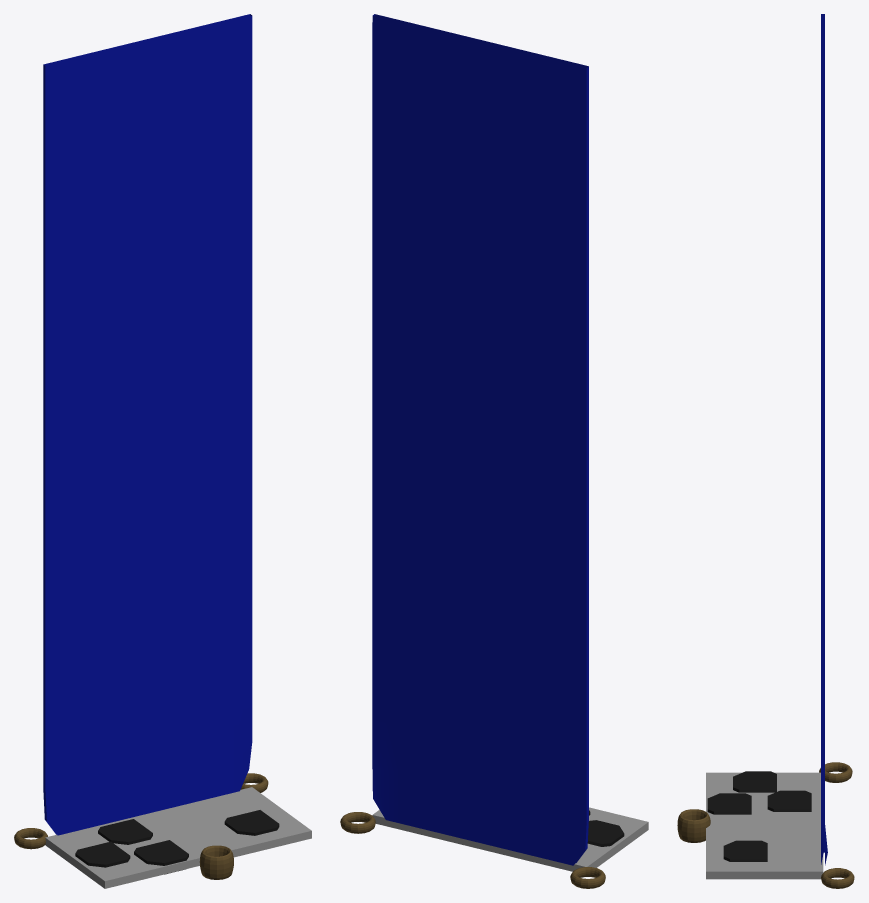
Rendered from starlink.obj.
3 views of the same model, side by side, from view 1: azimuth 30°, elevation 25°; view 2: azimuth 150°, elevation 25°; view 3: azimuth 270°, elevation 25° (orthographic). The views are drawn at different scales.
Parts seen in each view (by area): view 1: Starlink_ISS.002, Cube, Torus.002_Torus, SolarPanels.001_Cube.001, SolarPanels_Cube.001, SolarPanels.003_Cube.001, SolarPanels.002_Cube.001; view 2: Starlink_ISS.002, Cube, SolarPanels_Cube.001, Torus, Torus.001_Torus; view 3: Cube, Starlink_ISS.002, Torus.002_Torus, SolarPanels.001_Cube.001, SolarPanels.002_Cube.001, SolarPanels.003_Cube.001, SolarPanels_Cube.001, Torus, Torus.001_Torus.
Boxes of the visible parts, left/top/right/bottom form: Starlink_ISS.002: left=43, top=14, right=252, bottom=835; Cube: left=45, top=787, right=311, bottom=888; Torus.002_Torus: left=199, top=845, right=233, bottom=879; SolarPanels.001_Cube.001: left=134, top=840, right=188, bottom=874; SolarPanels_Cube.001: left=75, top=841, right=130, bottom=867; SolarPanels.003_Cube.001: left=224, top=810, right=279, bottom=835; SolarPanels.002_Cube.001: left=98, top=819, right=152, bottom=844; Starlink_ISS.002: left=372, top=14, right=588, bottom=865; Cube: left=372, top=807, right=648, bottom=871; SolarPanels_Cube.001: left=587, top=820, right=624, bottom=846; Torus: left=340, top=812, right=375, bottom=833; Torus.001_Torus: left=570, top=867, right=605, bottom=888; Cube: left=706, top=772, right=823, bottom=879; Starlink_ISS.002: left=821, top=14, right=827, bottom=865; Torus.002_Torus: left=677, top=809, right=710, bottom=842; SolarPanels.001_Cube.001: left=707, top=793, right=751, bottom=814; SolarPanels.002_Cube.001: left=767, top=790, right=811, bottom=811; SolarPanels.003_Cube.001: left=723, top=840, right=767, bottom=861; SolarPanels_Cube.001: left=733, top=771, right=776, bottom=792; Torus: left=821, top=868, right=854, bottom=888; Torus.001_Torus: left=819, top=762, right=852, bottom=782.
Bounding box in the file's own units: 3.39 × 10.18 × 2.11.
